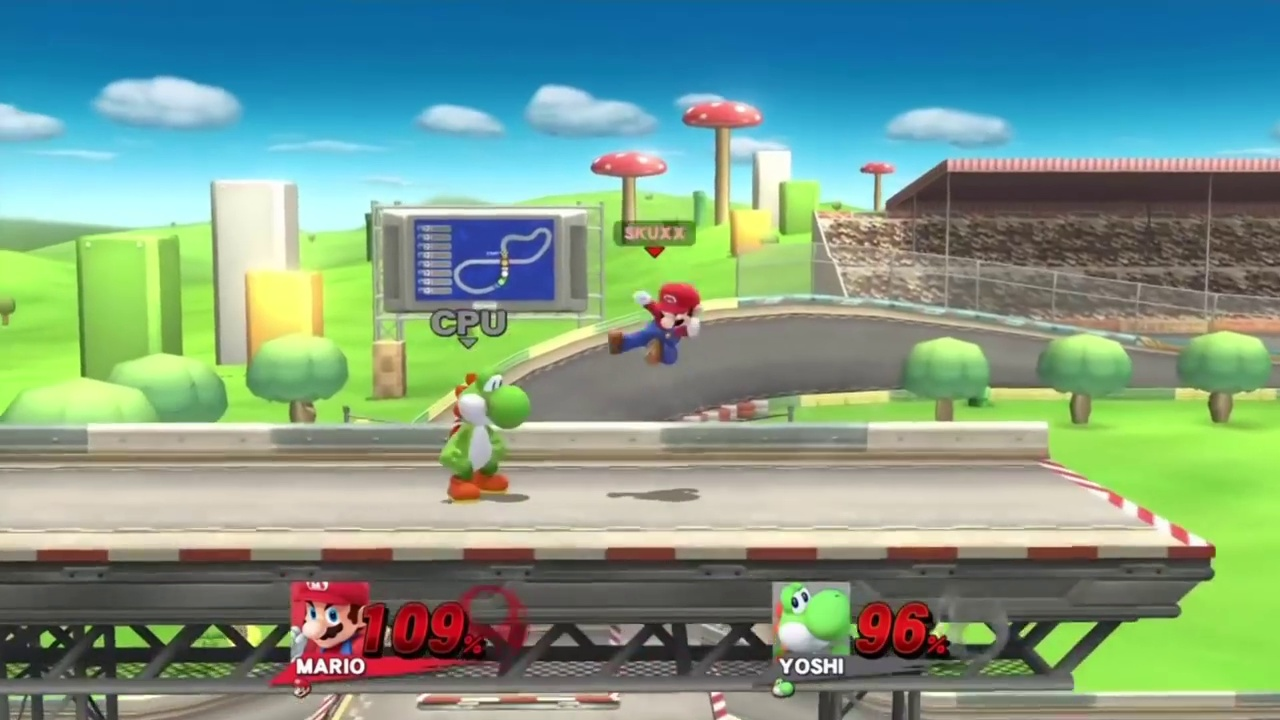Mario: (611, 284, 705, 369)
